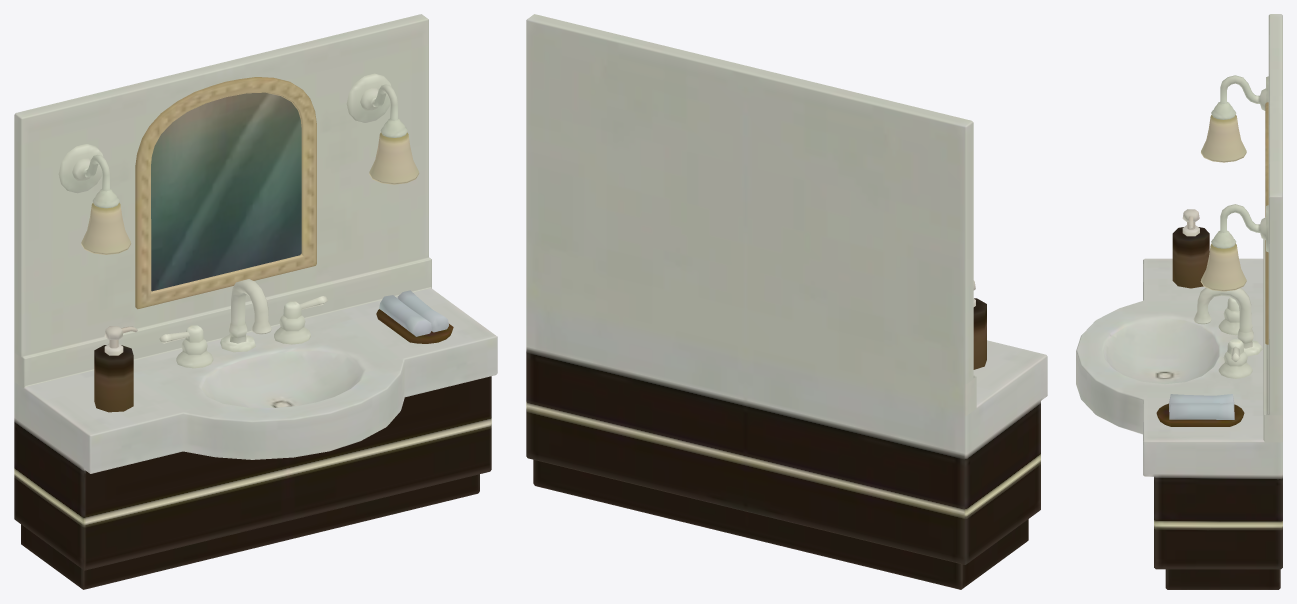
3 renders of one model, left to right at view 1: azimuth 30°, elevation 25°; view 2: azimuth 150°, elevation 25°; view 3: azimuth 270°, elevation 25°, orthographic. The views are drawn at different scales.
Bounding box in the file's own units: 20 × 20.25 × 9.56.
Materials: 2 (2 with a texture image).
